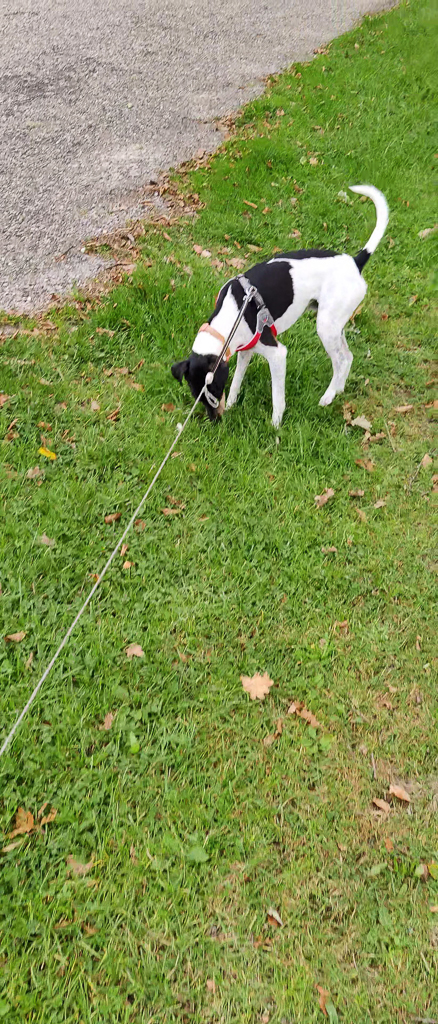Dog: (164, 180, 398, 434)
